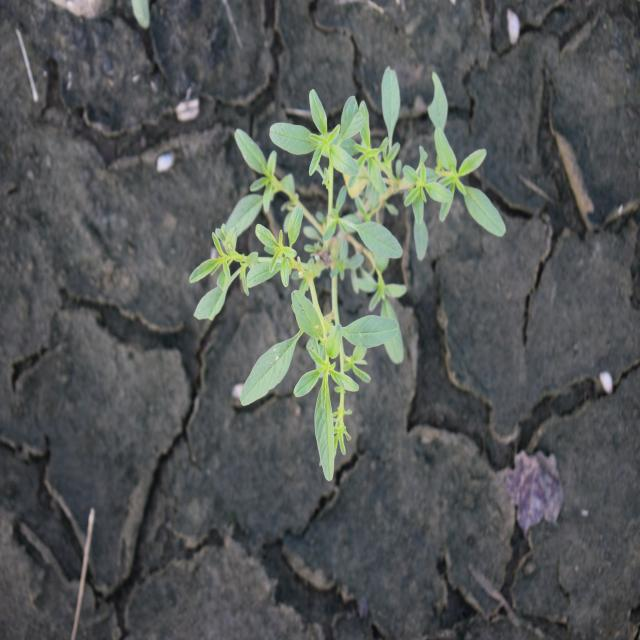Waterhemp: (187, 62, 509, 483)
